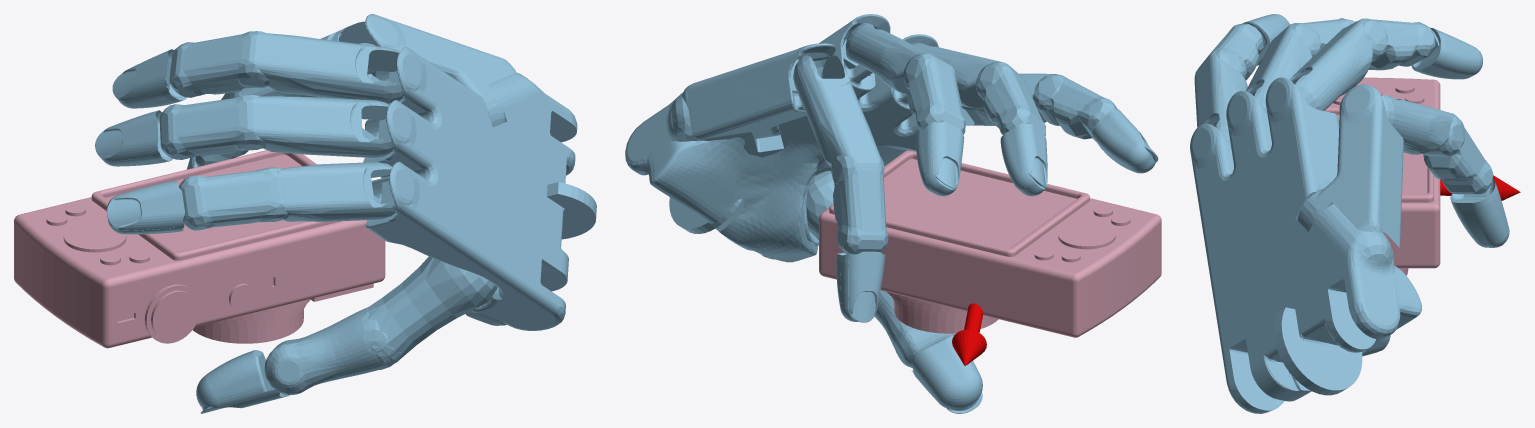
3 views of the same model, side by side, from view 1: azimuth 30°, elevation 25°; view 2: azimuth 150°, elevation 25°; view 3: azimuth 270°, elevation 25° (orthographic). The views are drawn at different scales.
Visible parts, largest first — view 1: world, camera.stl; view 2: world, camera.stl; view 3: world, camera.stl.
Boxes of the visible parts, x1=… form: world: x1=95, y1=14, x2=596, y2=413; camera.stl: x1=14, y1=150, x2=385, y2=348; world: x1=625, y1=14, x2=1158, y2=413; camera.stl: x1=819, y1=150, x2=1161, y2=337; world: x1=1190, y1=14, x2=1520, y2=413; camera.stl: x1=1325, y1=77, x2=1440, y2=275.
Size of the model in its own units: 0.2116 by 0.1422 by 0.123.
